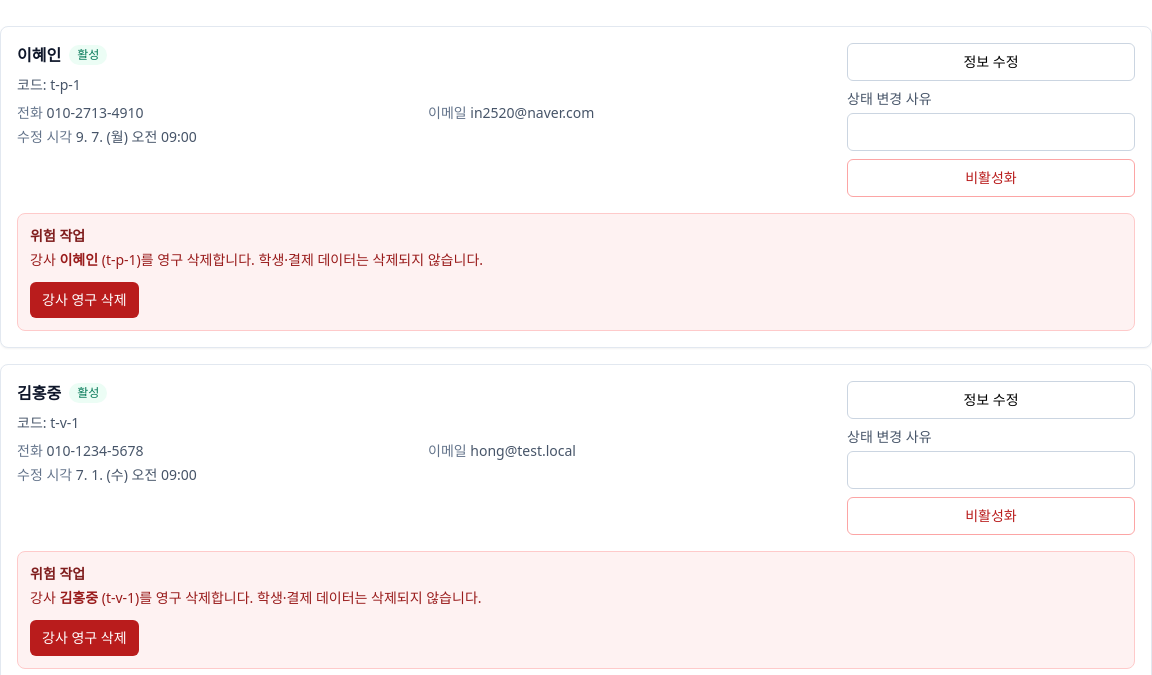
Test case: Owner Teacher Visibility & Assignment Regression Tests › 6. deactivating an active teacher automatically reveals inactive section with deactivation result
(page scrolled)
Type "휴직" into the field with test id "teacher-status-reason-t-v-1".
click(991, 470); type("휴직")  # box [847, 451, 1135, 489]
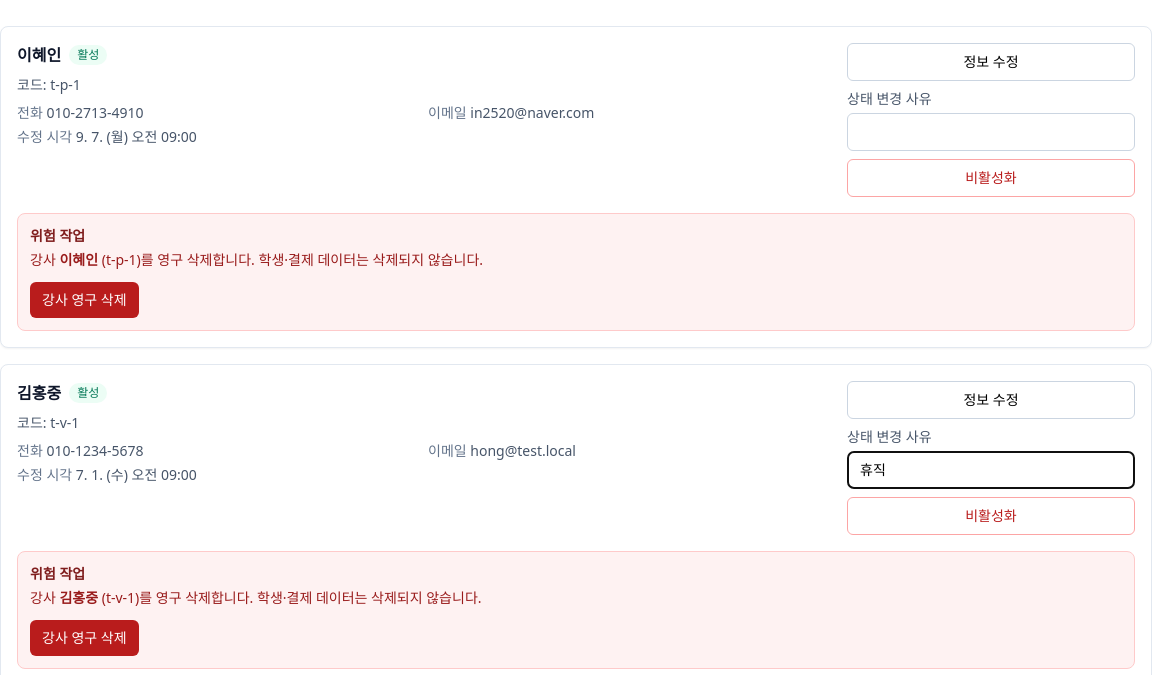
Click the button with test id "teacher-deactivate-t-v-1".
click(991, 516)  # box [847, 497, 1135, 535]
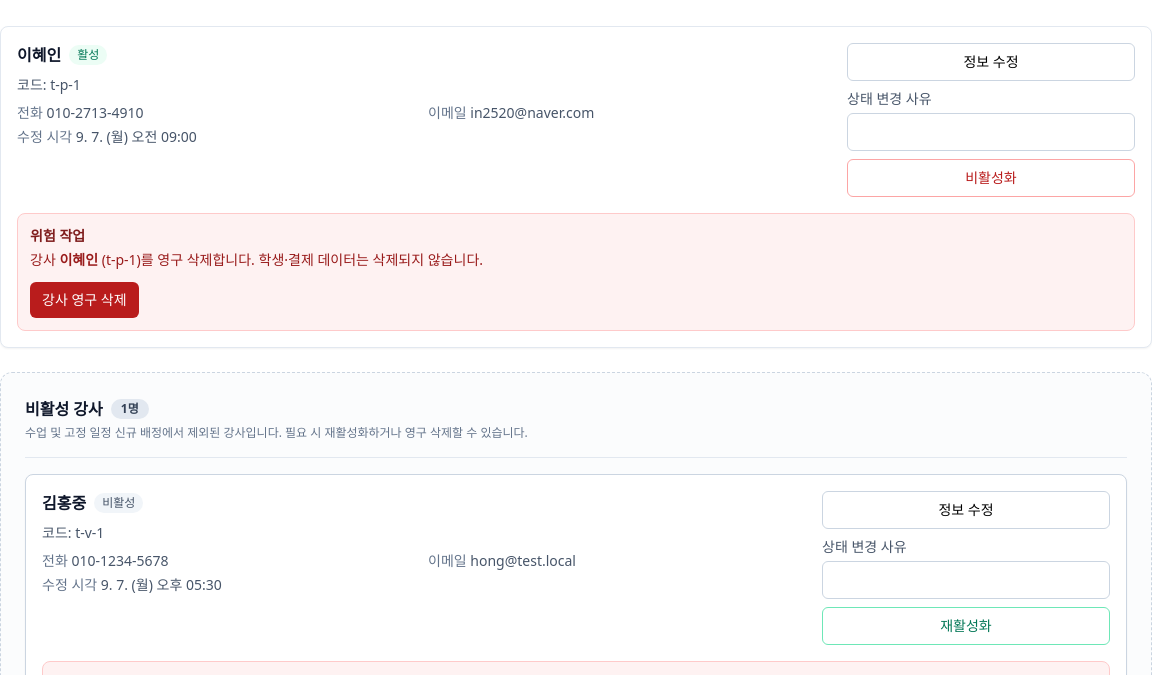
Expected: the text with test id "teacher-status-t-p-1" reads "활성", [77, 46, 99, 63]
Now the text with test id "teacher-status-t-v-1" reads "비활성", box [102, 494, 135, 511]
